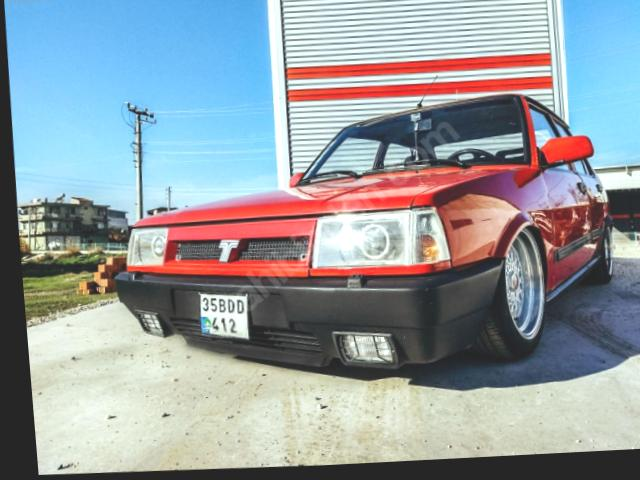plaka: (199, 292, 248, 338)
